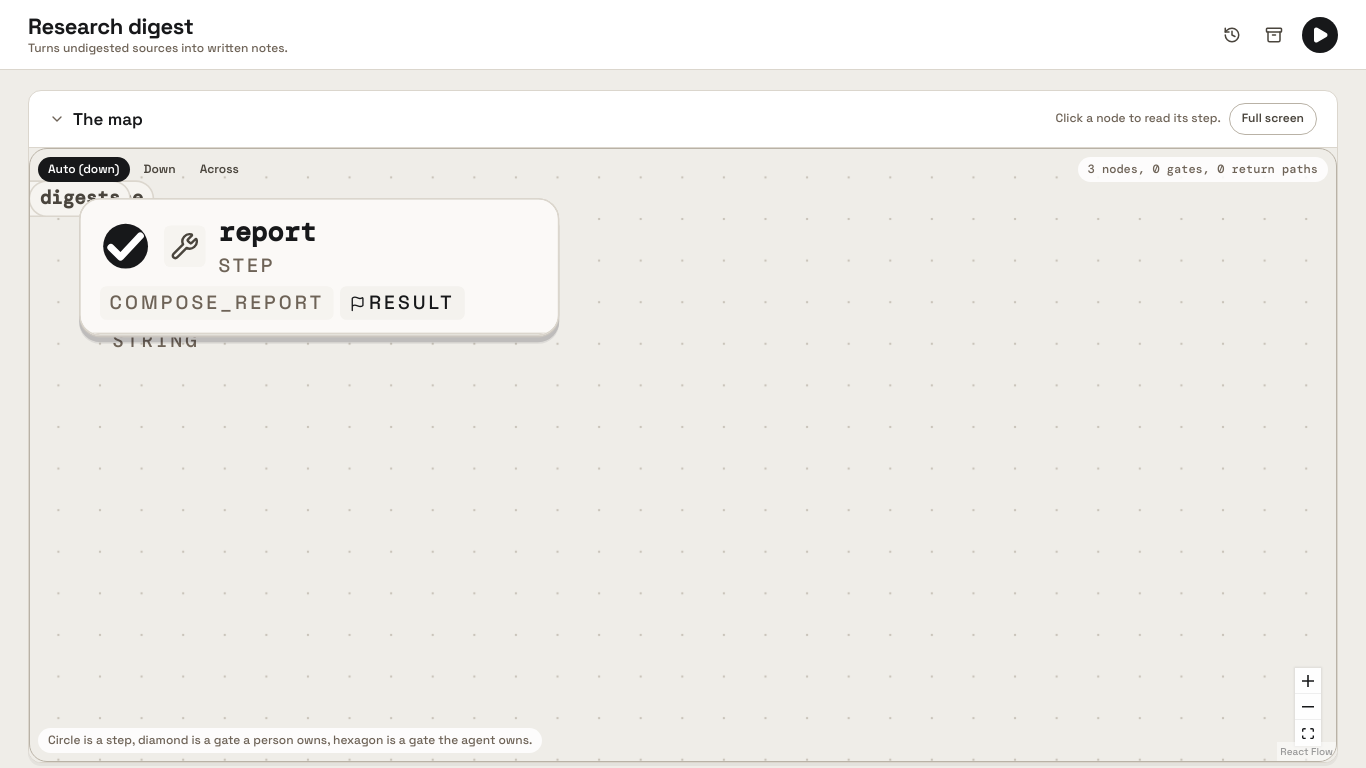
Scenario: WorkflowAbout › draws the map above everything, open by default, and lets a reader collapse it
Expected: the text "Click a node to read its step." is shown, x1=1056 y1=110 x2=1221 y2=128
Click the button "The map" at coordinates (96, 119), box x1=49 y1=107 x2=143 y2=131
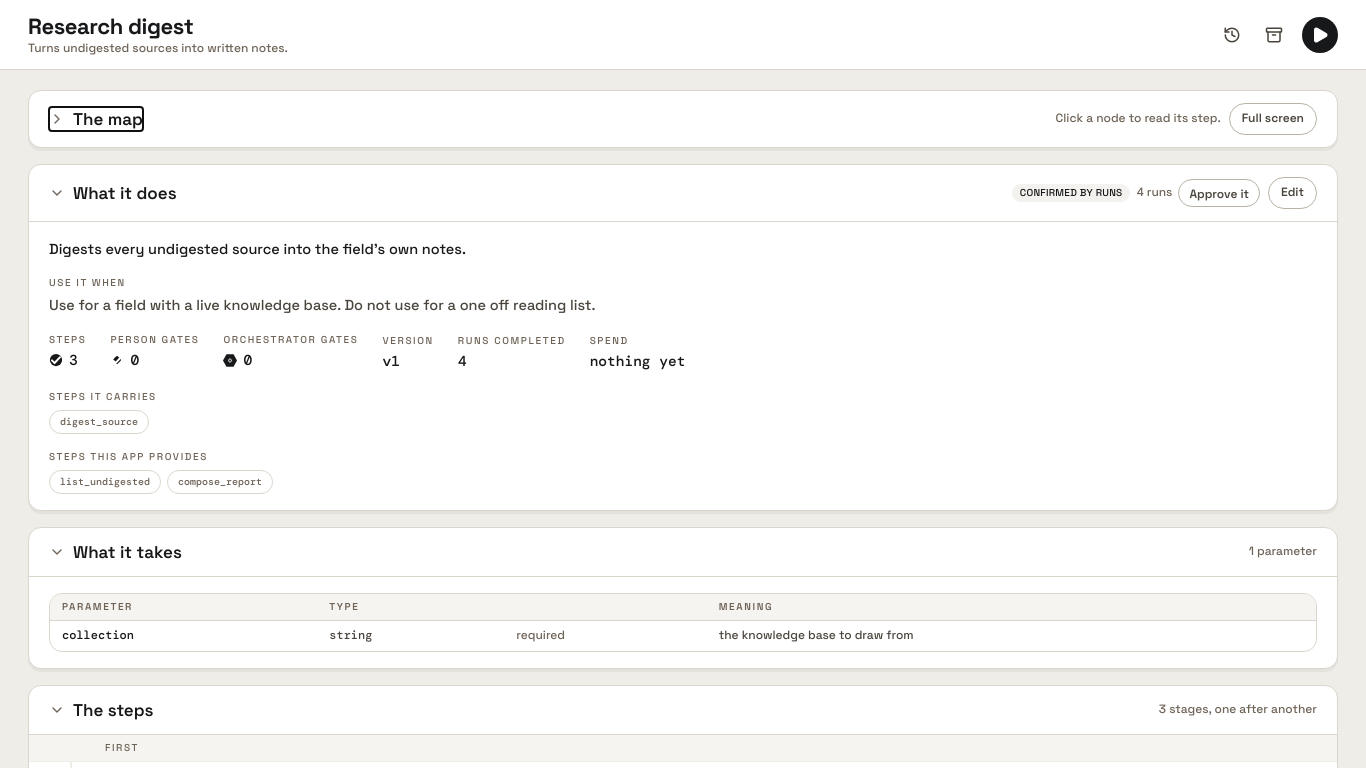
Expected: the button "The map" is collapsed, x1=49 y1=107 x2=143 y2=131
